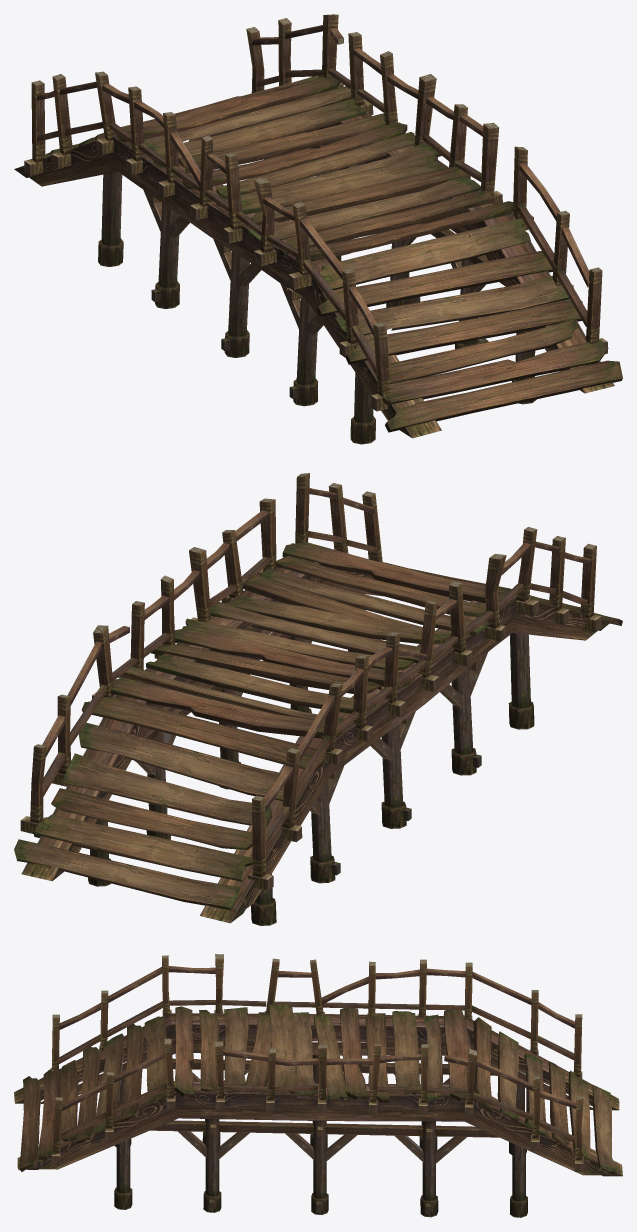
File: C5_Bridge_1.FBX
3 views of the same model, one above another, from view 1: azimuth 30°, elevation 25°; view 2: azimuth 150°, elevation 25°; view 3: azimuth 270°, elevation 25° (orthographic). The views are drawn at different scales.
Visible parts, largest first — view 1: C5_Bridge_01; view 2: C5_Bridge_01; view 3: C5_Bridge_01.
Boxes of the visible parts, bbox=[...] form: C5_Bridge_01: bbox=[14, 14, 622, 444]; C5_Bridge_01: bbox=[14, 473, 622, 925]; C5_Bridge_01: bbox=[14, 954, 622, 1217].
Bounding box in the file's own units: 596 × 544 × 1645.
